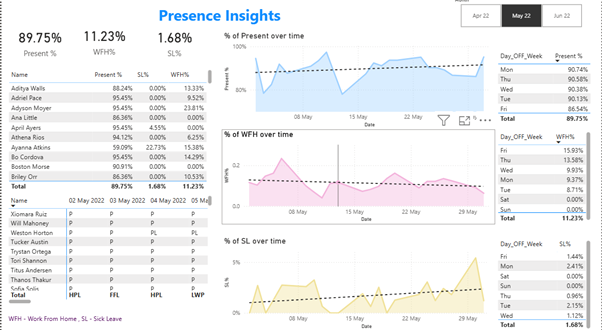

This screenshot's page, from the dashboard's own definition file:
{"tool":"powerbi","page":{"name":"Presence_Insights","canvas":[1280,720],"ordinal":0},"visuals":[{"type":"card","fields":{"Values":["Measure.Present %"]},"box":[9.7,47,144.1,108.5],"z":0},{"type":"slicer","fields":{"Values":["Attendance-Sheet-2022-2023 xlsx.Month"]},"box":[953.7,0,307.7,76.1],"z":1000},{"type":"card","fields":{"Values":["Measure.Sick_Leave%"]},"box":[283.4,47,170,108.5],"z":2000},{"type":"card","fields":{"Values":["Measure.WFH%"]},"box":[153.8,38.9,129.5,116.6],"z":3000},{"type":"tableEx","fields":{"Values":["Attendance-Sheet-2022-2023 xlsx.Name","Measure.Present %","Measure.SL%","Measure.WFH%"]},"box":[9.7,155.4,443.7,268.8],"z":4000},{"type":"pivotTable","fields":{"Columns":["Attendance-Sheet-2022-2023 xlsx.Date"],"Rows":["Attendance-Sheet-2022-2023 xlsx.Name"],"Values":["Min(Attendance-Sheet-2022-2023 xlsx.Value)"]},"box":[9.7,424.2,443.7,241.3],"z":5000},{"type":"areaChart","title":"% of Present over time","fields":{"Category":["Attendance-Sheet-2022-2023 xlsx.Date"],"Y":["Measure.Present %"]},"box":[469.9,77,583.3,210.6],"z":6000},{"type":"areaChart","title":"% of WFH over time ","fields":{"Category":["Attendance-Sheet-2022-2023 xlsx.Date"],"Y":["Measure.WFH%"]},"box":[469.9,287.6,583.3,202.5],"z":7000},{"type":"areaChart","title":"% of SL over time","fields":{"Category":["Attendance-Sheet-2022-2023 xlsx.Date"],"Y":["Measure.SL%"]},"box":[469.9,516.5,583.3,202.5],"z":8000},{"type":"tableEx","fields":{"Values":["Attendance-Sheet-2022-2023 xlsx.Day_OFF_Week","Measure.Present %"]},"box":[1052.5,115,208.9,173.3],"z":9000},{"type":"tableEx","fields":{"Values":["Attendance-Sheet-2022-2023 xlsx.Day_OFF_Week","Measure.WFH%"]},"box":[1053,288,208,203],"z":10000},{"type":"tableEx","fields":{"Values":["Attendance-Sheet-2022-2023 xlsx.Day_OFF_Week","Measure.SL%"]},"box":[1053,516,208,203],"z":11000},{"type":"textbox","box":[9.7,16.2,944,59.9],"z":12000},{"type":"textbox","box":[9.7,676.8,429.1,30.8],"z":13000}]}

Visuals, with their boxes in screenshot pixels (x1, y1, x2, y2), scaled from the page's 1280x720 canvas onto the 602x330 screenshot:
card - Measure.Present %: left=5, top=22, right=72, bottom=71
slicer - Attendance-Sheet-2022-2023 xlsx.Month: left=449, top=0, right=593, bottom=35
card - Measure.Sick_Leave%: left=133, top=22, right=213, bottom=71
card - Measure.WFH%: left=72, top=18, right=133, bottom=71
tableEx - Attendance-Sheet-2022-2023 xlsx.Name x Measure.Present %: left=5, top=71, right=213, bottom=194
pivotTable - Attendance-Sheet-2022-2023 xlsx.Date x Attendance-Sheet-2022-2023 xlsx.Name: left=5, top=194, right=213, bottom=305
"% of Present over time" areaChart: left=221, top=35, right=495, bottom=132
"% of WFH over time " areaChart: left=221, top=132, right=495, bottom=225
"% of SL over time" areaChart: left=221, top=237, right=495, bottom=329
tableEx - Attendance-Sheet-2022-2023 xlsx.Day_OFF_Week x Measure.Present %: left=495, top=53, right=593, bottom=132
tableEx - Attendance-Sheet-2022-2023 xlsx.Day_OFF_Week x Measure.WFH%: left=495, top=132, right=593, bottom=225
tableEx - Attendance-Sheet-2022-2023 xlsx.Day_OFF_Week x Measure.SL%: left=495, top=236, right=593, bottom=329
textbox: left=5, top=7, right=449, bottom=35
textbox: left=5, top=310, right=206, bottom=324
